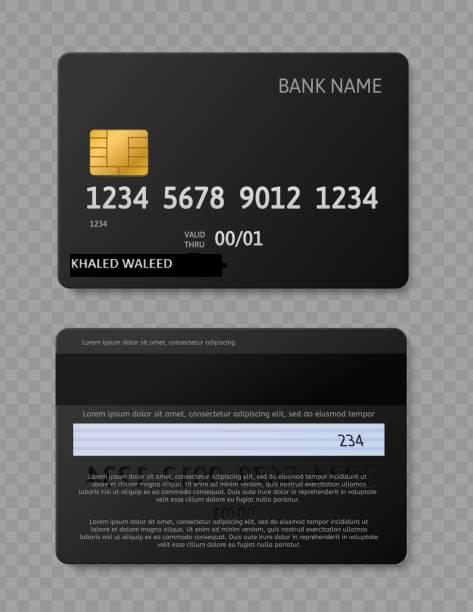payment_card: (53, 325, 408, 565), (56, 52, 412, 289)
